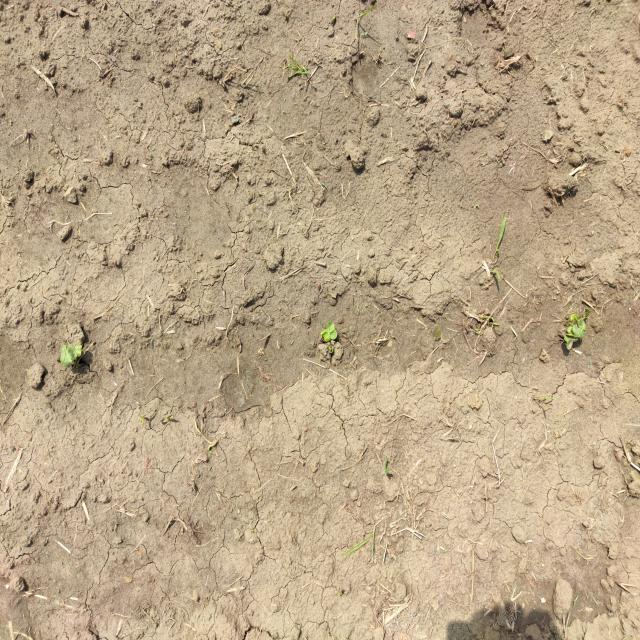seedling: (572, 324, 585, 339), (326, 322, 337, 339), (67, 343, 77, 360), (63, 349, 72, 367), (564, 335, 573, 350), (321, 329, 331, 342), (60, 345, 66, 364), (578, 318, 586, 331), (75, 344, 82, 357), (569, 314, 580, 321), (567, 326, 573, 334)
